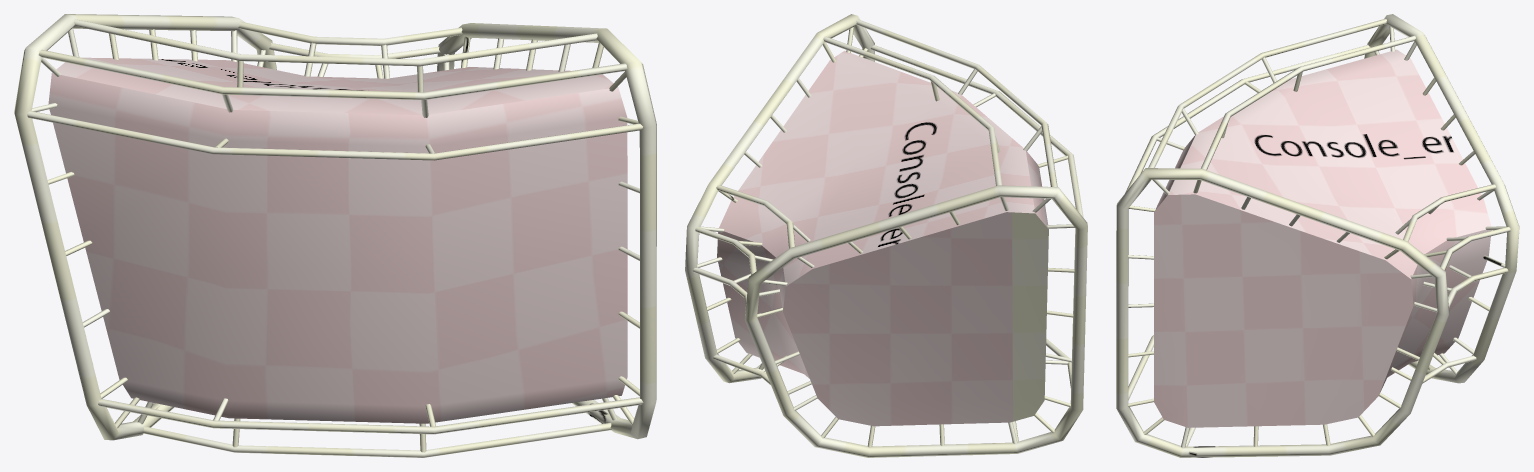
The model's file is console_end.fbx.
The picture shows the model from 3 angles, left to right: view 1: azimuth 30°, elevation 25°; view 2: azimuth 150°, elevation 25°; view 3: azimuth 270°, elevation 25°; orthographic projection. The views are drawn at different scales.
Parts seen in each view (by area): view 1: console_end; view 2: console_end; view 3: console_end.
Part boxes in pixels (bbox=[...]): console_end: bbox=[14, 14, 656, 457]; console_end: bbox=[685, 14, 1087, 457]; console_end: bbox=[1116, 14, 1519, 457].
Size of the model in its own units: 184 by 142 by 181.
